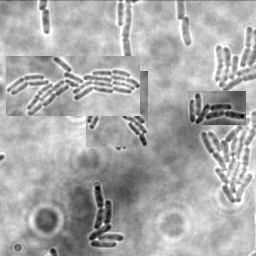Dividing: (123, 1, 142, 70), (41, 8, 52, 35)
Microcolony: (6, 56, 140, 116), (200, 109, 255, 205), (86, 71, 148, 147), (212, 25, 255, 94), (89, 184, 126, 248), (188, 91, 246, 125), (182, 16, 193, 48)
